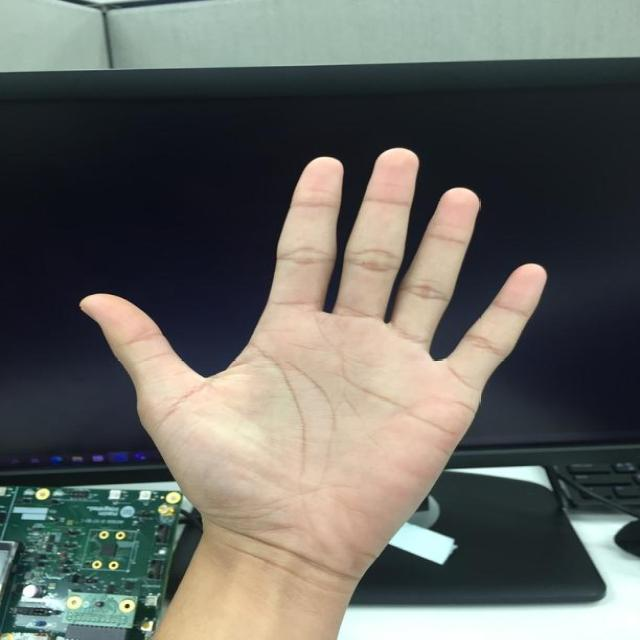hand: (75, 146, 549, 568)
